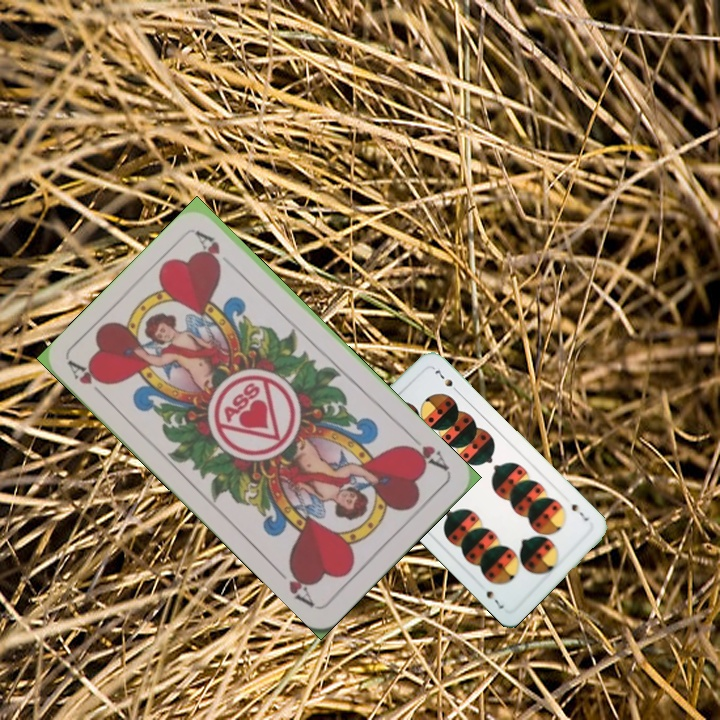HA: (399, 429, 452, 474), (65, 358, 112, 405)
S7: (567, 500, 591, 524)
